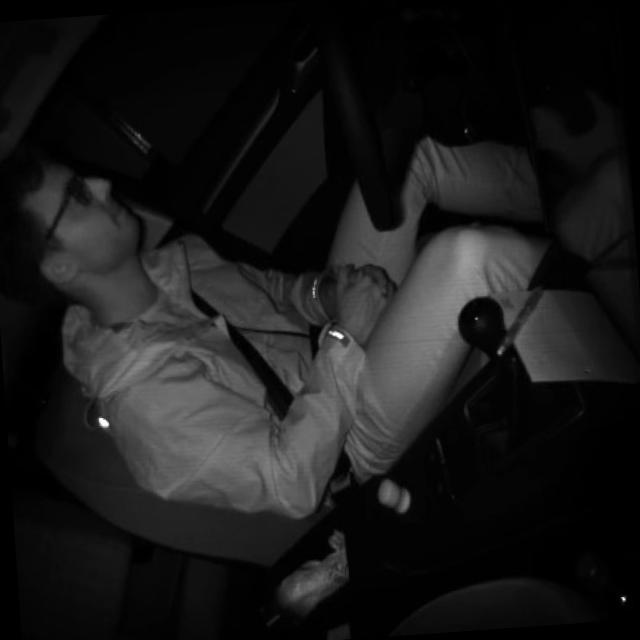pen: (490, 278, 551, 358)
